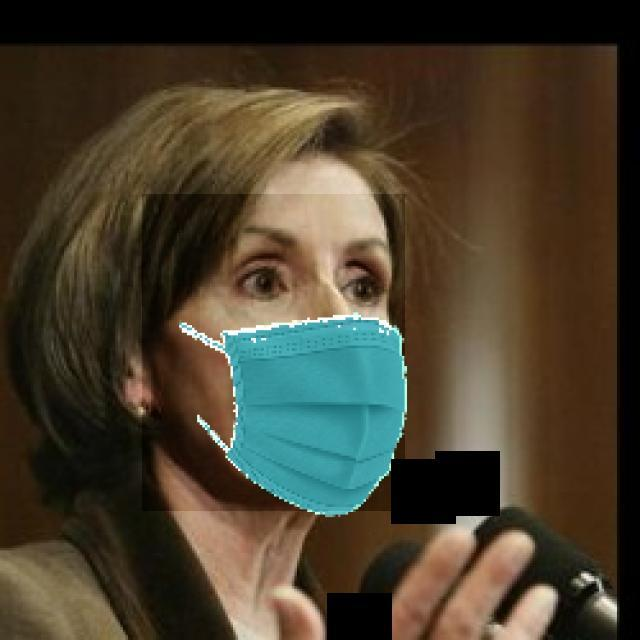surgical: (142, 194, 405, 511)
